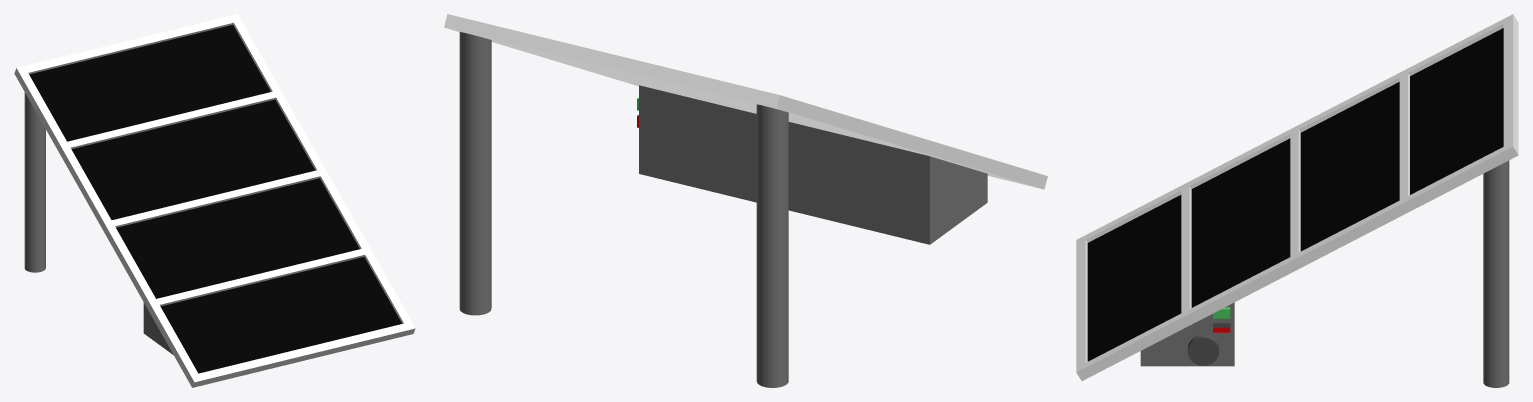
The model's file is solpanel.fbx.
3 views of the same model, side by side, from view 1: azimuth 30°, elevation 25°; view 2: azimuth 150°, elevation 25°; view 3: azimuth 270°, elevation 25° (orthographic). The views are drawn at different scales.
Visible parts, largest first — view 1: Cube, Cylinder, Cube.001; view 2: Cube.001, Cylinder, Cube; view 3: Cube, Cylinder, Cube.001, Cylinder.001, Cube.002.
Part boxes in pixels (<box>): Cube: <box>14,14,415,387</box>; Cylinder: <box>24,92,45,272</box>; Cube.001: <box>143,302,173,354</box>; Cube.001: <box>639,85,987,244</box>; Cylinder: <box>459,32,788,387</box>; Cube: <box>444,14,1047,189</box>; Cube: <box>1076,14,1518,380</box>; Cylinder: <box>1483,160,1509,387</box>; Cube.001: <box>1140,302,1234,366</box>; Cylinder.001: <box>1187,334,1218,365</box>; Cube.002: <box>1213,307,1230,332</box>.
Bounding box in the file's own units: 200 × 171 × 282.
